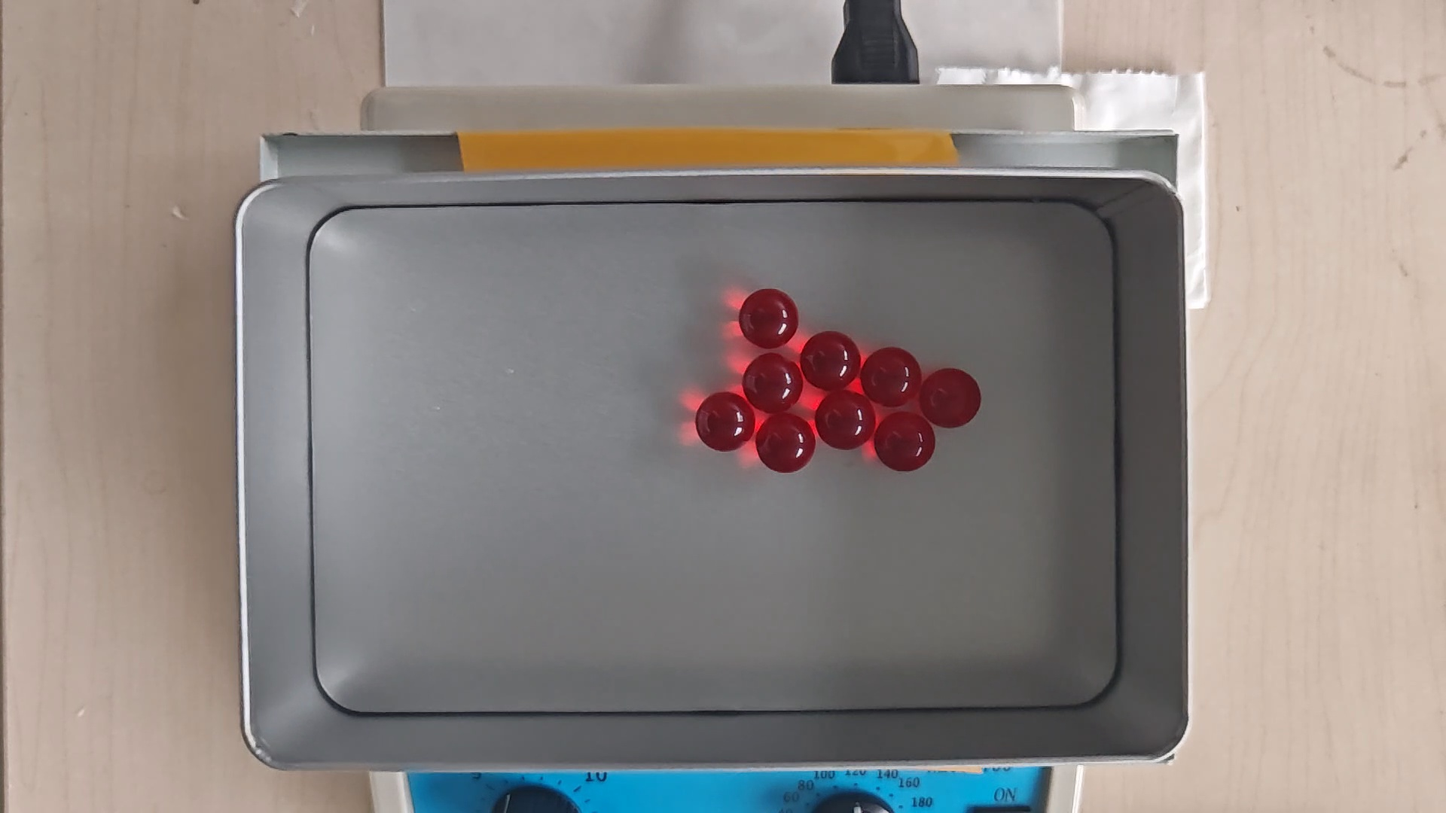ball: (874, 411, 936, 473), (861, 346, 921, 408), (696, 391, 756, 452), (920, 368, 981, 428), (739, 288, 799, 349), (815, 391, 875, 451), (801, 331, 861, 391), (757, 413, 815, 473), (744, 353, 801, 411)
container: (311, 200, 1117, 713)
